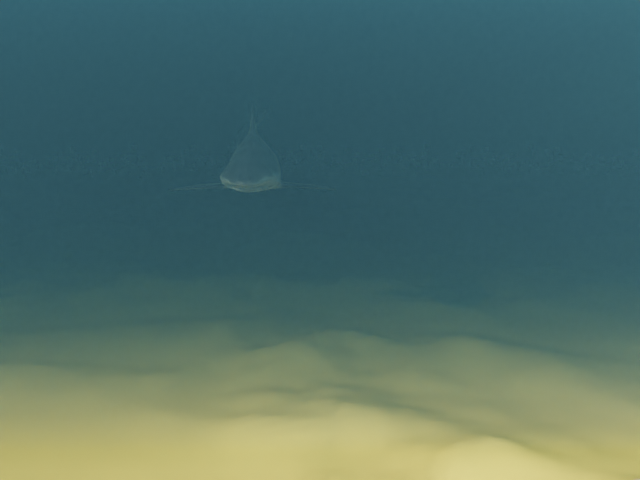Carribean Shark.001: (169, 103, 336, 192)
